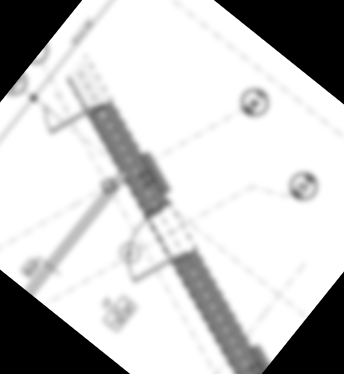door: (100, 207, 189, 297)
wall: (24, 169, 130, 296)
